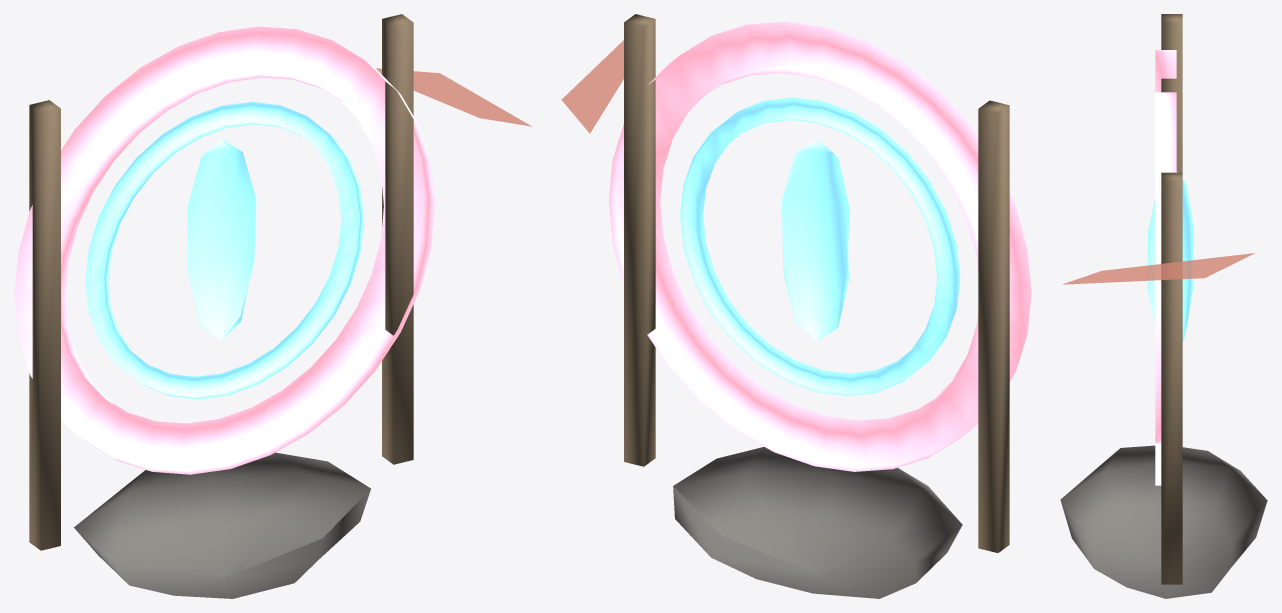
File: route_markers.gltf
The picture shows the model from 3 angles, left to right: view 1: azimuth 30°, elevation 25°; view 2: azimuth 150°, elevation 25°; view 3: azimuth 270°, elevation 25°; orthographic projection. The views are drawn at different scales.
Parts seen in each view (by area): view 1: route gate ring, stacked cairn base, inner readable route gate ring, left support mast, right support mast, objective shard, weathered route pennant cloth; view 2: route gate ring, stacked cairn base, inner readable route gate ring, left support mast, right support mast, objective shard, weathered route pennant cloth; view 3: stacked cairn base, right support mast, route gate ring, weathered route pennant cloth, objective shard, left support mast.
Part boxes in pixels (x1,y1,x2,y2): route gate ring: (14,26,435,474); stacked cairn base: (74,452,370,598); inner readable route gate ring: (85,101,364,399); left support mast: (29,100,60,550); right support mast: (382,14,413,464); objective shard: (187,138,256,340); weathered route pennant cloth: (376,68,531,126); route gate ring: (608,21,1031,471); stacked cairn base: (673,447,962,598); inner readable route gate ring: (680,97,960,396); left support mast: (978,100,1009,552); right support mast: (624,14,655,466); objective shard: (782,139,849,341); weathered route pennant cloth: (561,40,623,133); stacked cairn base: (1060,445,1267,598); right support mast: (1161,172,1182,584); route gate ring: (1155,50,1176,485); weathered route pennant cloth: (1062,253,1254,284); objective shard: (1147,172,1194,341); left support mast: (1161,14,1182,172).
Size of the model in its own units: 1.6 by 1.82 by 0.6848.
